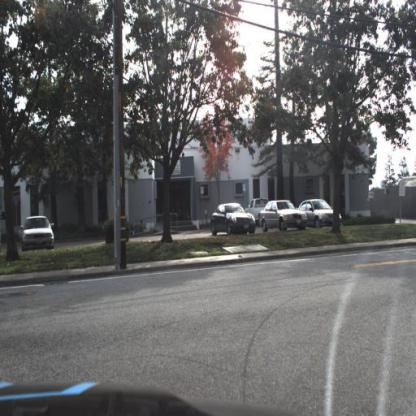car: (257, 198, 308, 235), (22, 214, 60, 254), (214, 202, 254, 236), (299, 199, 343, 228), (247, 195, 265, 219)
